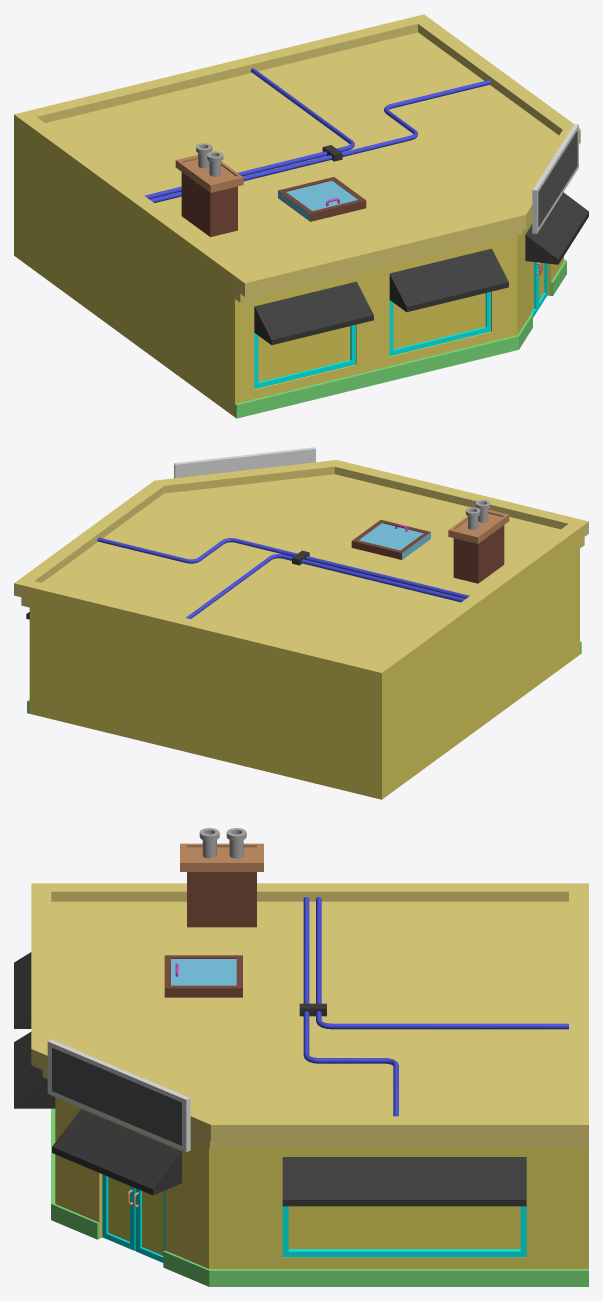
The model's file is building_02.fbx.
The picture shows the model from 3 angles, top to bottom: view 1: azimuth 30°, elevation 25°; view 2: azimuth 150°, elevation 25°; view 3: azimuth 270°, elevation 25°; orthographic projection. The views are drawn at different scales.
Visible parts, largest first — view 1: Vert.016; view 2: Vert.016; view 3: Vert.016.
Boxes of the visible parts, x1=… form: Vert.016: x1=14, y1=14, x2=588, y2=418; Vert.016: x1=14, y1=447, x2=588, y2=799; Vert.016: x1=14, y1=828, x2=588, y2=1286.
Size of the model in its own units: 2039 by 946 by 1992.
